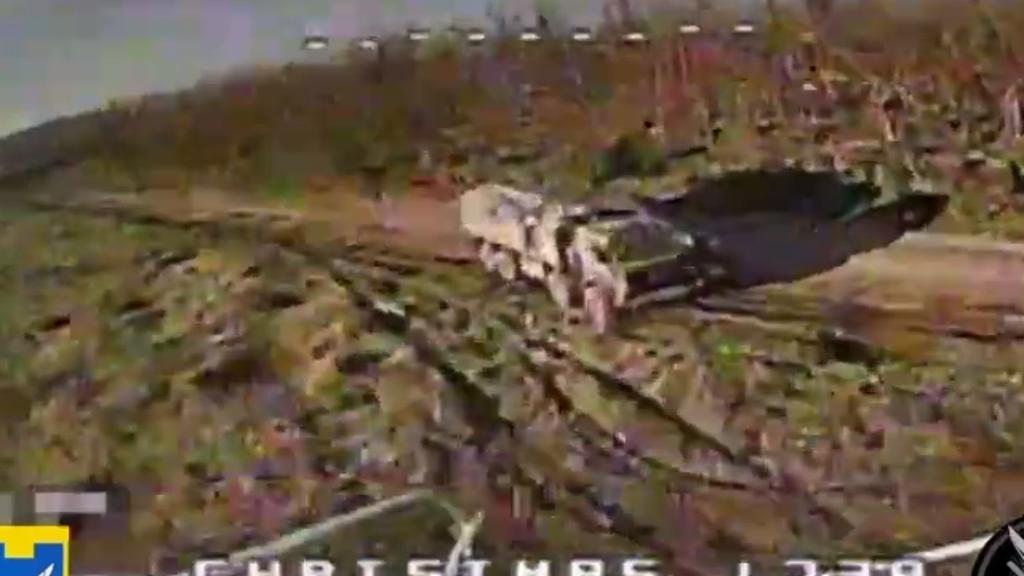TRUCK: (456, 175, 711, 333)
